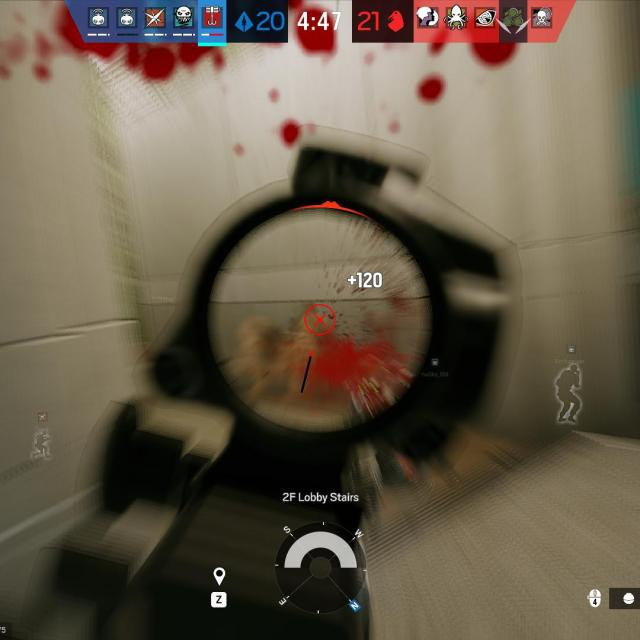Friend_label: (555, 343, 586, 364), (420, 357, 450, 378), (35, 411, 51, 432)
